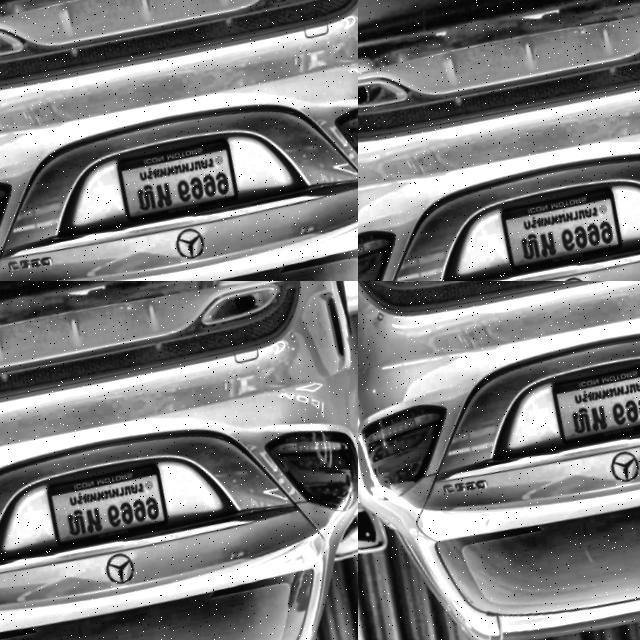license-plate: (16, 358, 176, 481), (550, 348, 640, 450)
